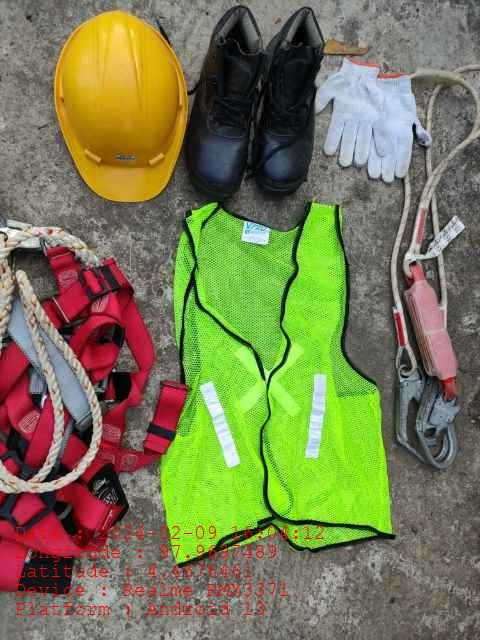HELM: (54, 12, 188, 203)
ROMPI: (161, 203, 385, 520)
SARUNG_TANGAN: (314, 62, 387, 168)
SEPATU: (187, 4, 321, 202)
TAMBANG_SLING: (389, 181, 480, 475)
